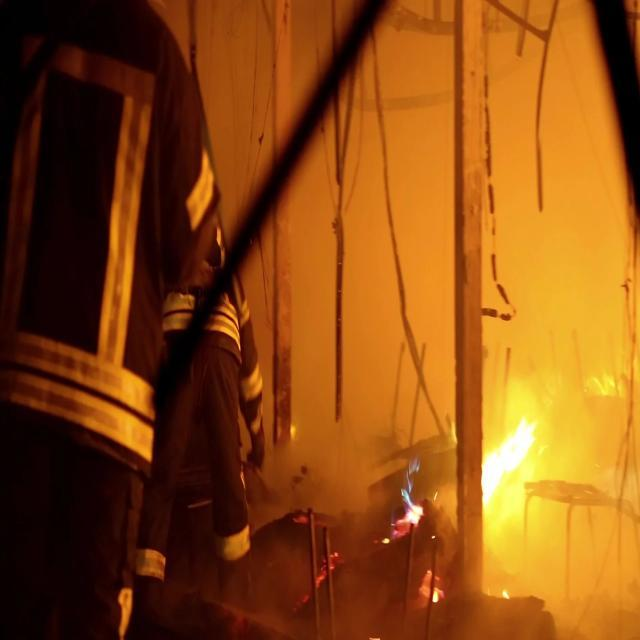Fire: (482, 400, 542, 510), (382, 456, 428, 544), (301, 548, 344, 610), (420, 560, 446, 606), (585, 372, 623, 398), (289, 421, 301, 442), (450, 424, 458, 444), (502, 589, 508, 600)
Smoke: (292, 30, 456, 418), (483, 28, 626, 380), (544, 395, 640, 640), (272, 416, 378, 525)
